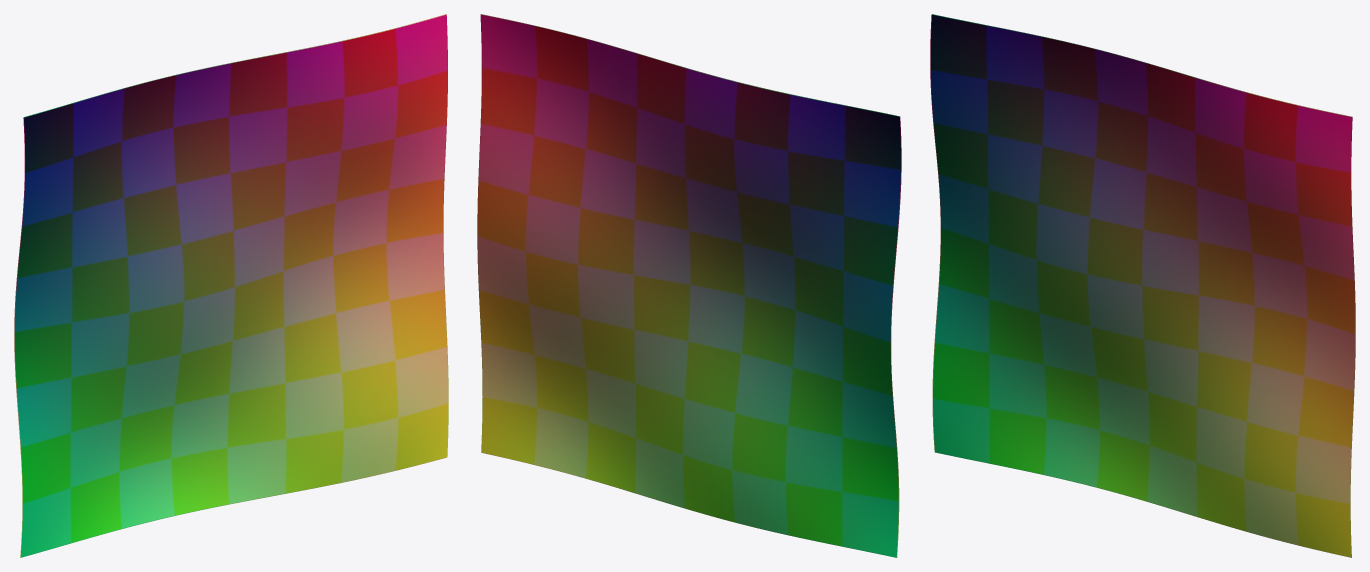
File: Tile_+016_+020.obj
3 views of the same model, side by side, from view 1: azimuth 30°, elevation 25°; view 2: azimuth 150°, elevation 25°; view 3: azimuth 330°, elevation 25° (orthographic).
Bounding box in the file's own units: 100 × 100 × 6.28.
